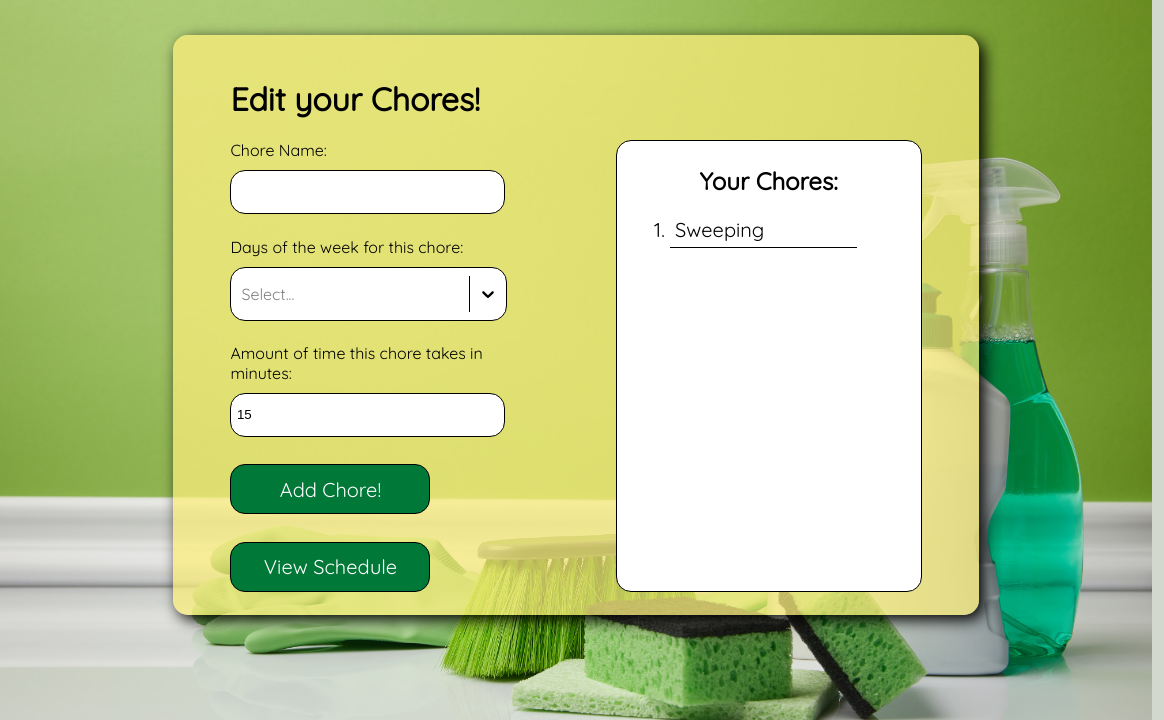
Test case: Chore Form › should allow a user to select at least one day to do this chore
This screenshot has width=1164, height=720.
Step 1. Click the element with class "select-control" → click(369, 294), box [230,267,507,321]
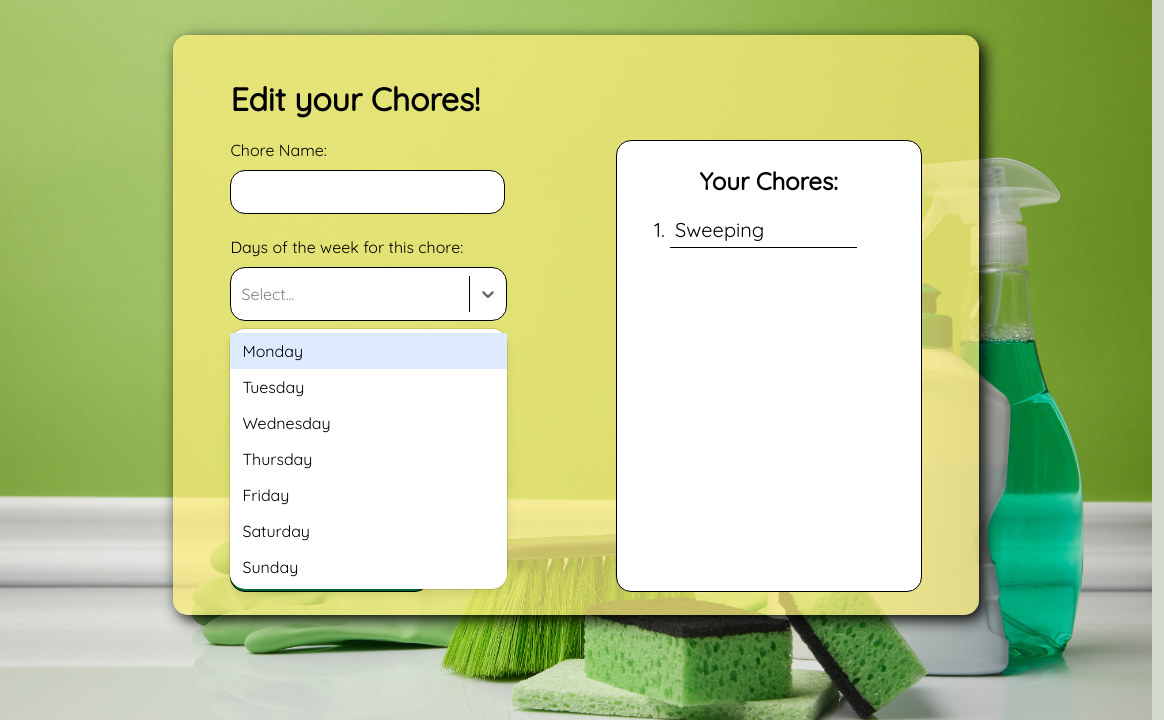
Step 2. Click the option with id "react-select-2-option-1" → click(273, 387), box [242,377,304,397]
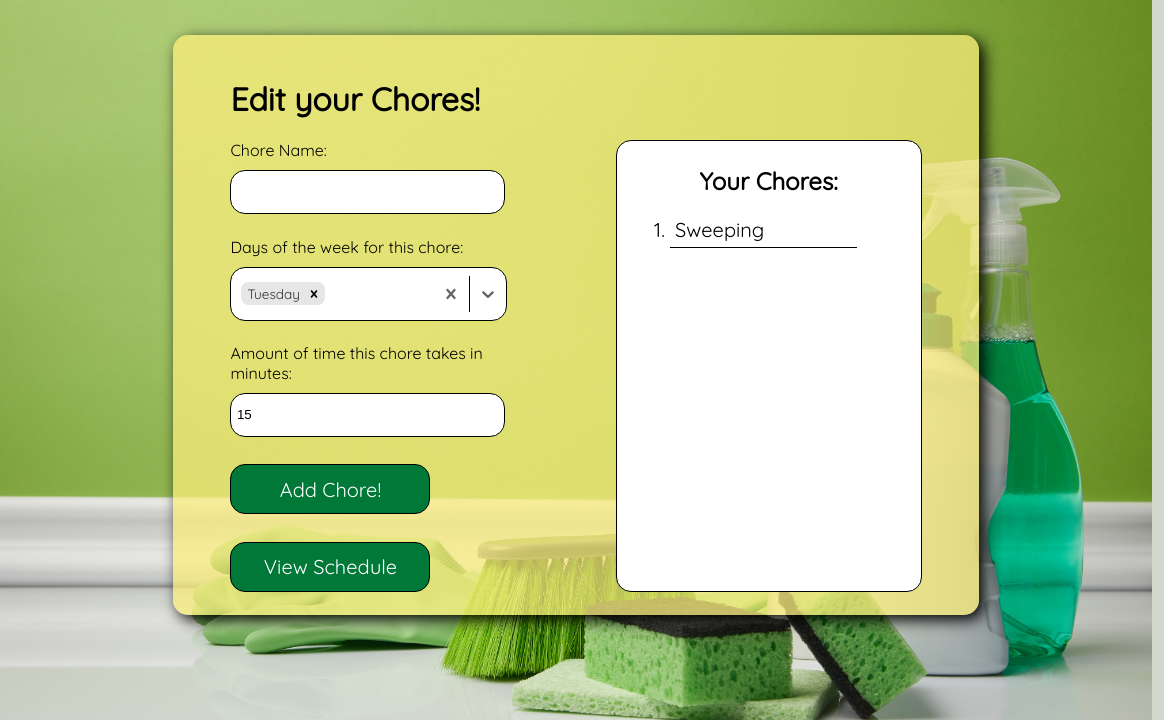
Expected: the text "Tuesday" is shown, [241,282,303,305]
